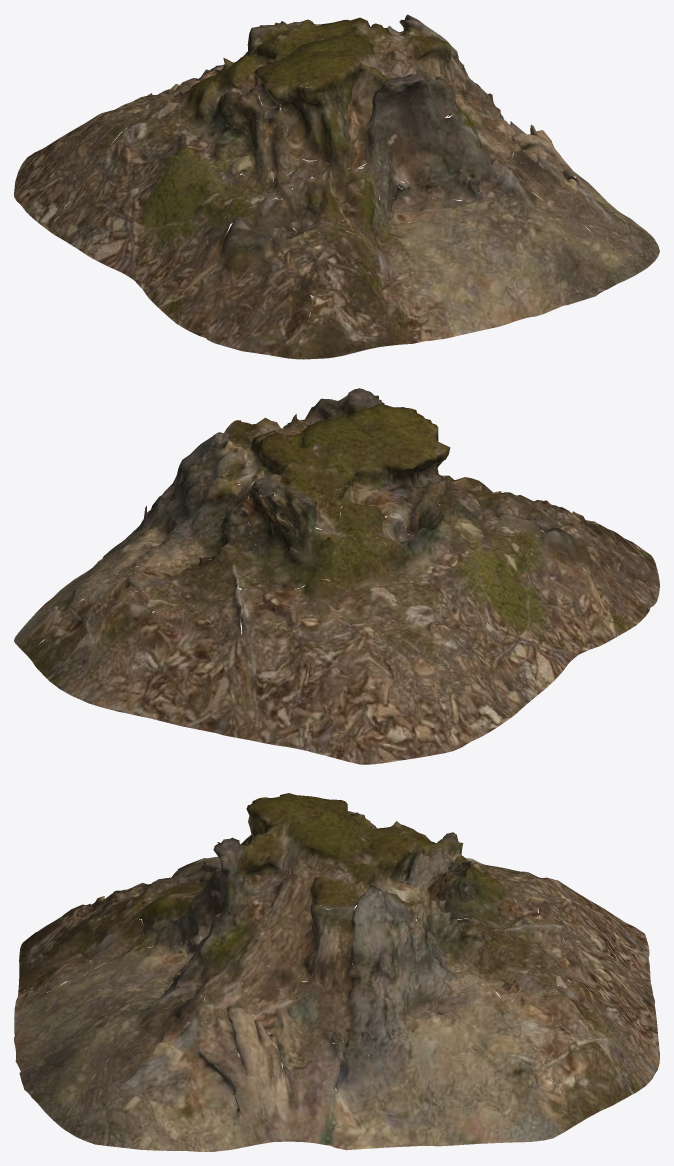
The model's file is stump.glb.
3 views of the same model, one above another, from view 1: azimuth 30°, elevation 25°; view 2: azimuth 150°, elevation 25°; view 3: azimuth 270°, elevation 25° (orthographic). The views are drawn at different scales.
Parts seen in each view (by area): view 1: tree_stump_01; view 2: tree_stump_01; view 3: tree_stump_01.
Part boxes in pixels (x1=…): tree_stump_01: x1=14, y1=14, x2=659, y2=359; tree_stump_01: x1=14, y1=388, x2=659, y2=764; tree_stump_01: x1=14, y1=793, x2=659, y2=1151.
Size of the model in its own units: 1.42 by 0.5732 by 1.59.
Materials: 1 (1 with a texture image).
